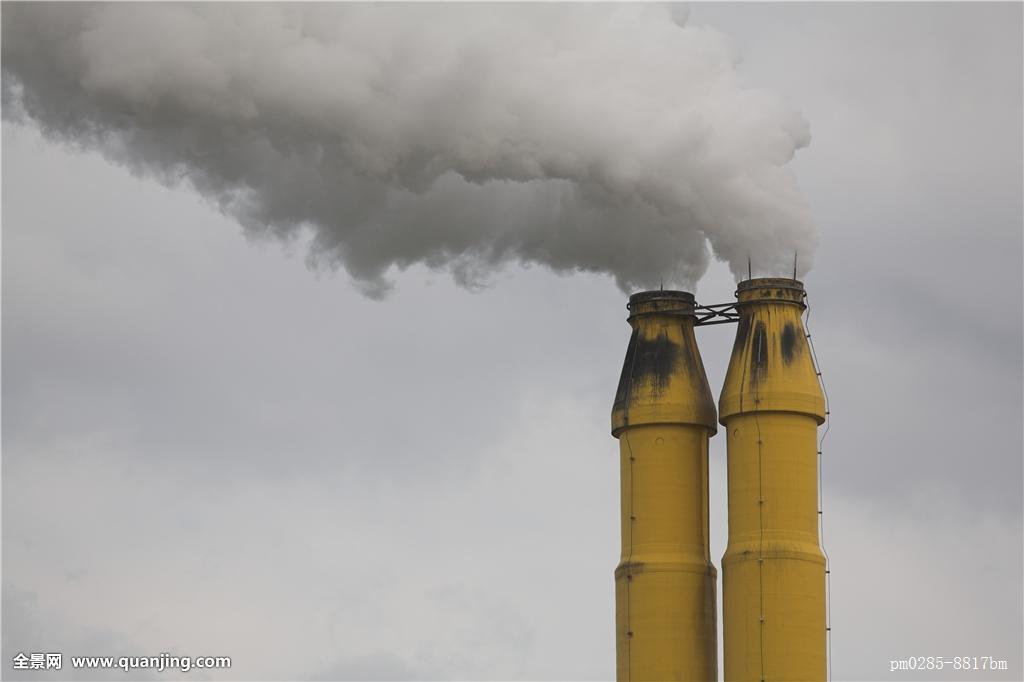dust: (299, 1, 850, 325)
